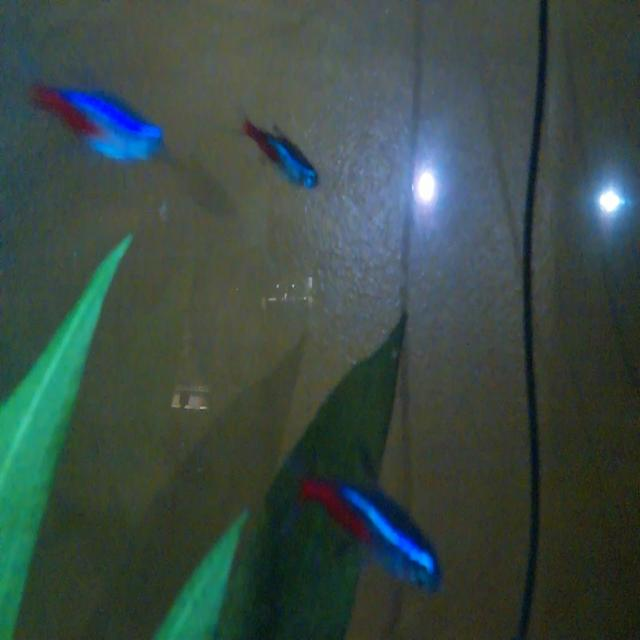fish: (284, 441, 453, 606), (20, 62, 171, 180), (236, 100, 325, 198)
